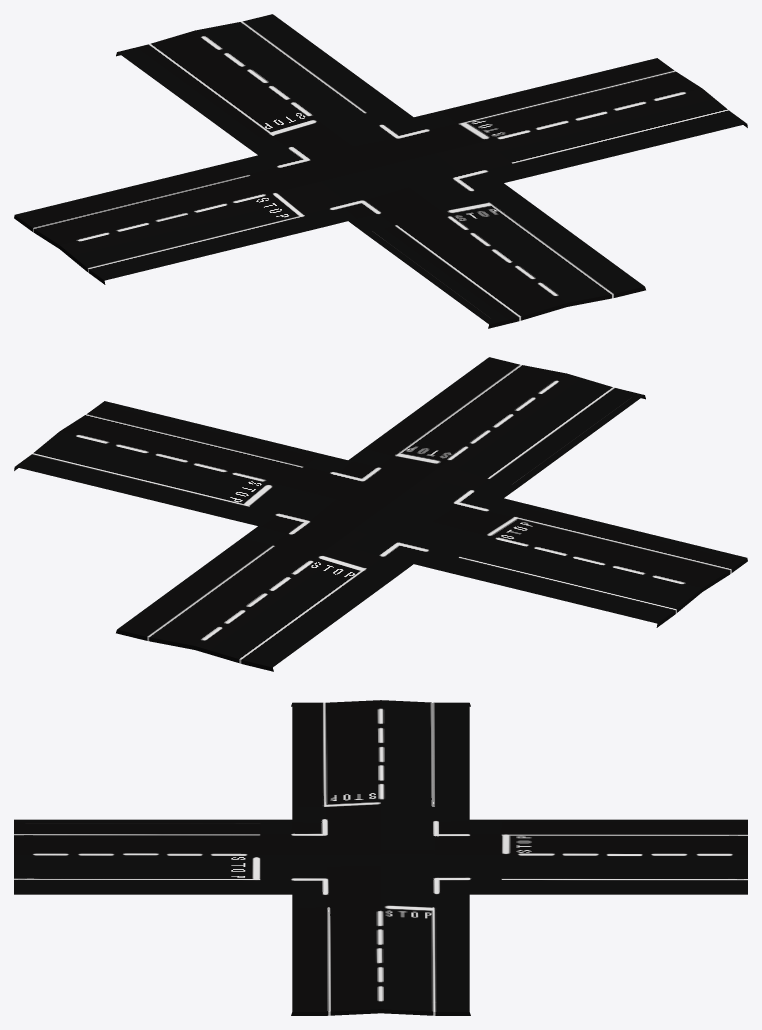
The model's file is roadIntersection_noSideWalk.fbx.
3 renders of one model, top to bottom at view 1: azimuth 30°, elevation 25°; view 2: azimuth 150°, elevation 25°; view 3: azimuth 270°, elevation 25°, orthographic.
Visible parts, largest first — view 1: pCube4; view 2: pCube4; view 3: pCube4.
Part boxes in pixels (x1,y1,x2,y2): pCube4: (14, 14, 747, 328); pCube4: (14, 357, 747, 671); pCube4: (14, 700, 747, 1015).
Size of the model in its own units: 133 by 1.31 by 133.
1 material, 1 textured.
